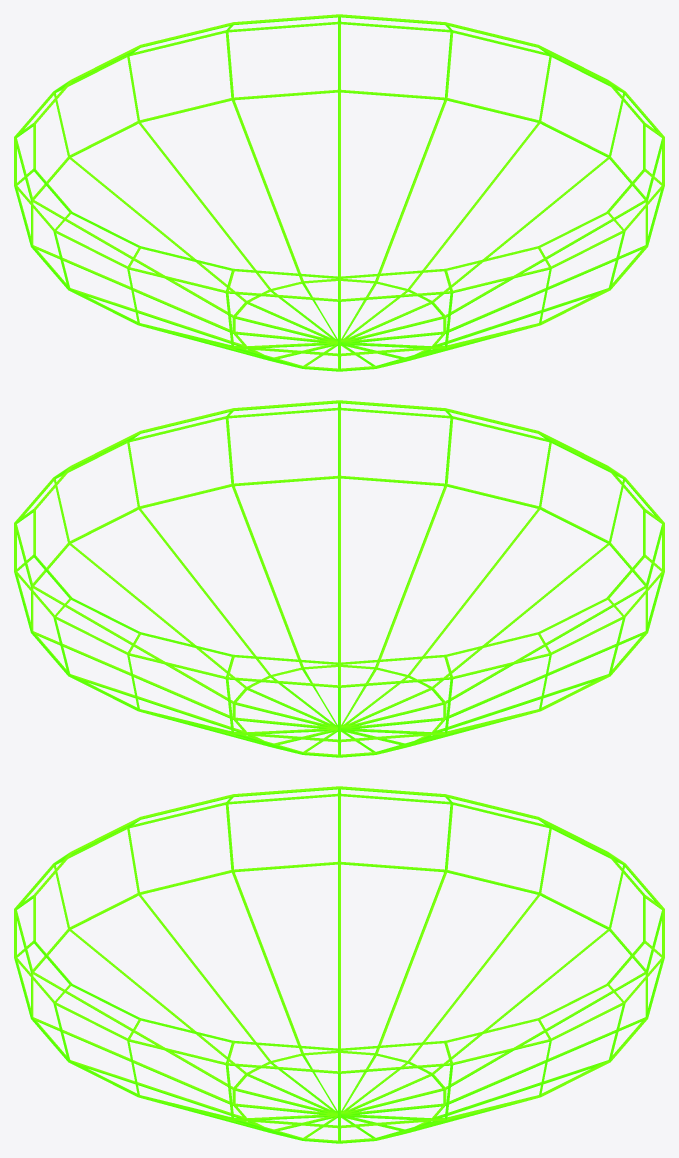
File: palteforme_out.glb
3 views of the same model, one above another, from view 1: azimuth 30°, elevation 25°; view 2: azimuth 150°, elevation 25°; view 3: azimuth 270°, elevation 25° (orthographic).
Visible parts, largest first — view 1: Cube; view 2: Cube; view 3: Cube.
Boxes of the visible parts, bbox=[...] form: Cube: bbox=[14, 14, 664, 371]; Cube: bbox=[14, 400, 664, 757]; Cube: bbox=[14, 786, 664, 1143].
Bounding box in the file's own units: 4.27 × 1.42 × 4.2.
